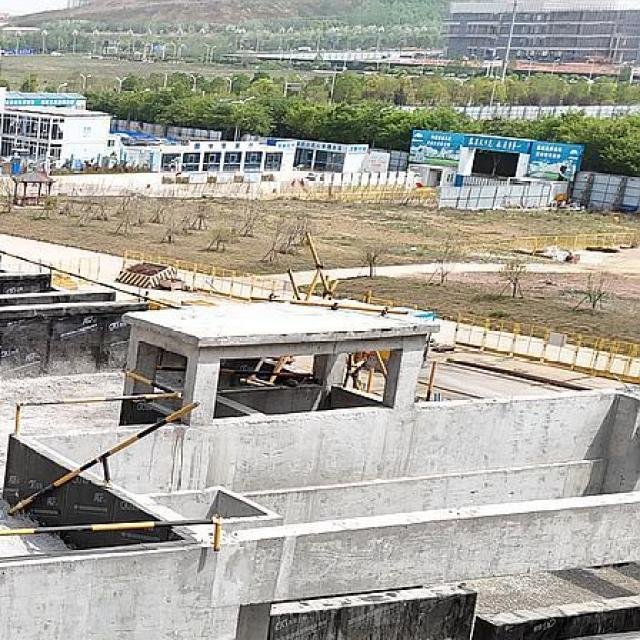edge_guardrail: (6, 400, 201, 516), (12, 369, 185, 436), (0, 250, 180, 310), (0, 518, 223, 552), (416, 356, 570, 403)
